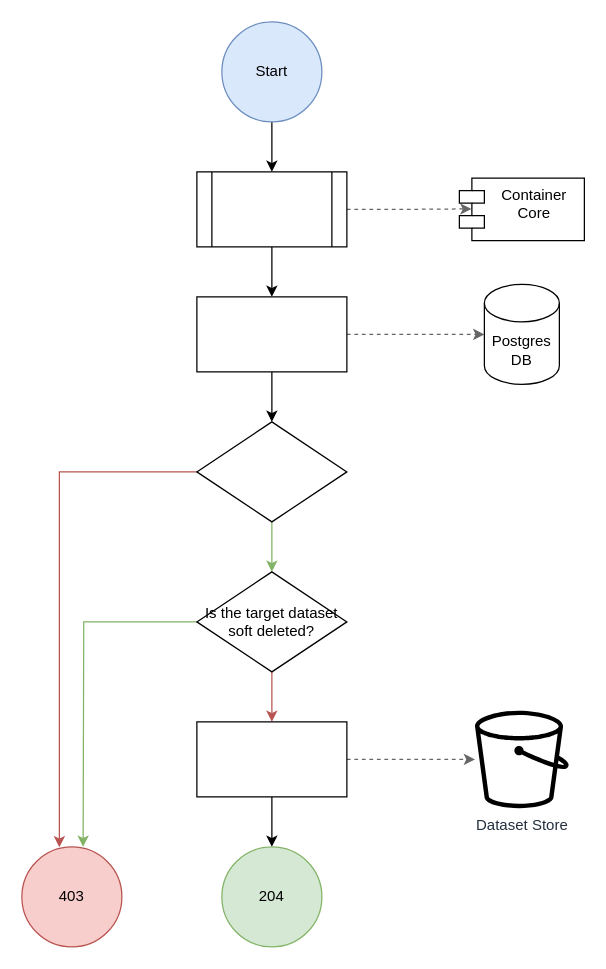
Some shapes in this 606 by 969 pixel diagram are drawn without their labels. The centre of each missing label's shape, as x and y in pixels:
Does the requesting user own the target dataset?: (x=271, y=471)
Lookup request user.: (x=271, y=209)
Lookup the target dataset in the PostgreSQL DB: (x=271, y=334)
Put the share offer in the dataset store.: (x=271, y=759)
